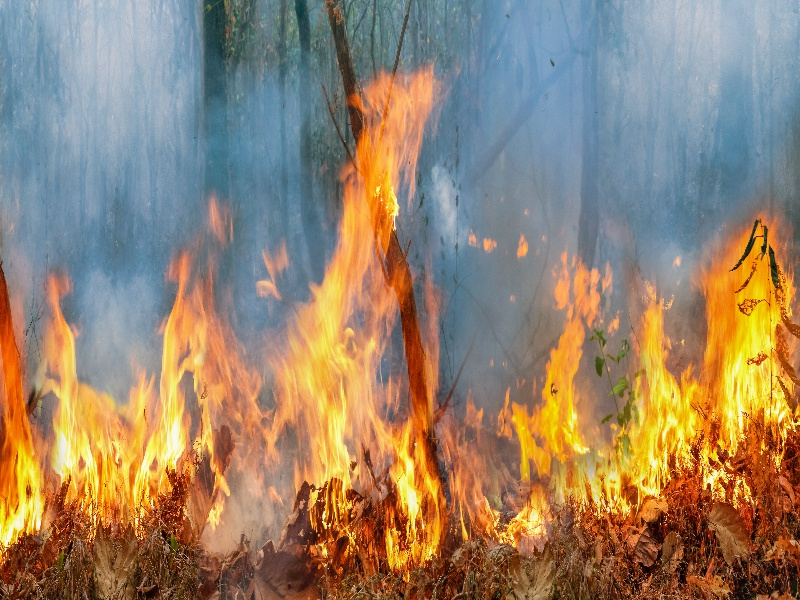fire: (2, 57, 458, 559), (459, 216, 800, 562)
